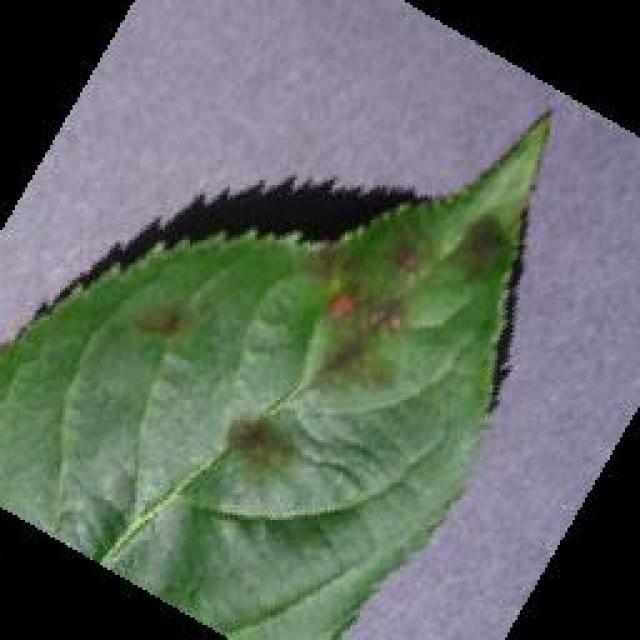apple scab disease: (0, 105, 555, 637)
